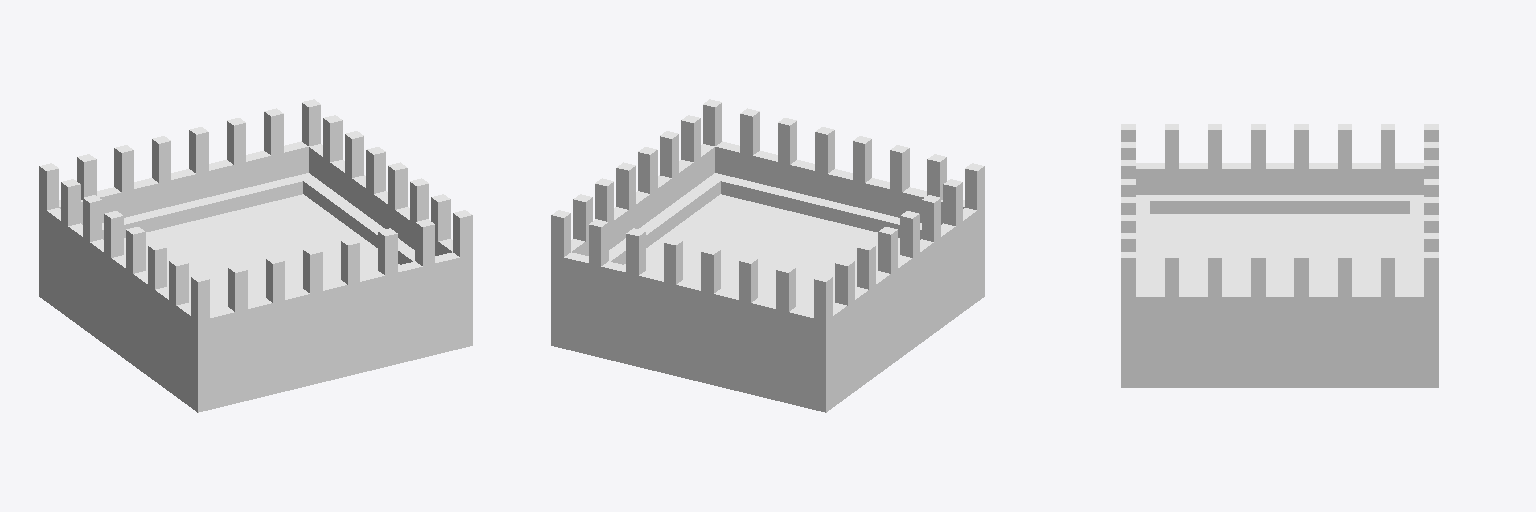
The model's file is Korona.obj.
The picture shows the model from 3 angles: view 1: azimuth 30°, elevation 25°; view 2: azimuth 150°, elevation 25°; view 3: azimuth 270°, elevation 25°; orthographic projection.
Parts seen in each view (by area): view 1: object 1; view 2: object 1; view 3: object 1.
Part boxes in pixels (x1,y1,x2,y2): object 1: (39,99,472,412); object 1: (551,99,984,412); object 1: (1121,124,1438,387).
Bounding box in the file's own units: 2.2 × 1 × 2.2.